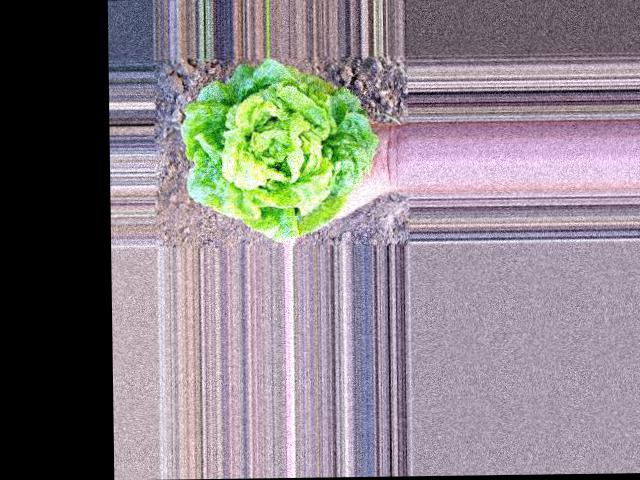lettuce: (248, 20, 373, 215)
